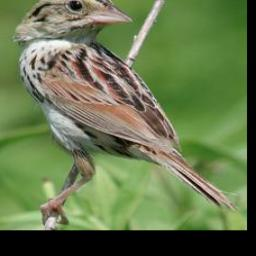Sparrow: (11, 0, 239, 226)
